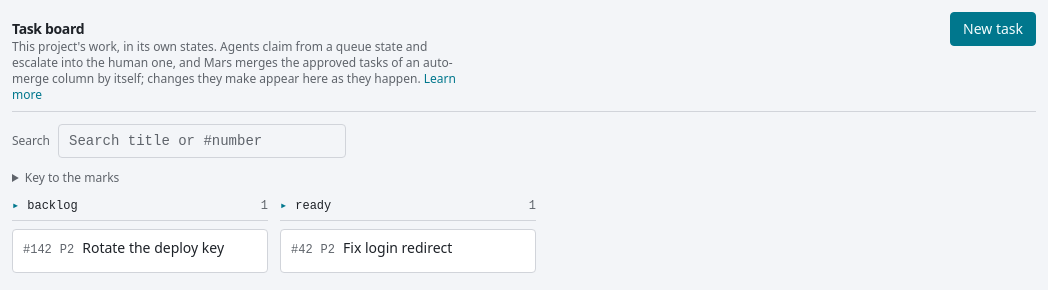
Test: TaskBoard search › hides the cards that do not match and keeps every column
The width and height of the screenshot is (1048, 290).
Type "login" into the search field named "Search tasks" at (202, 141), box 58,124 -> 346,158
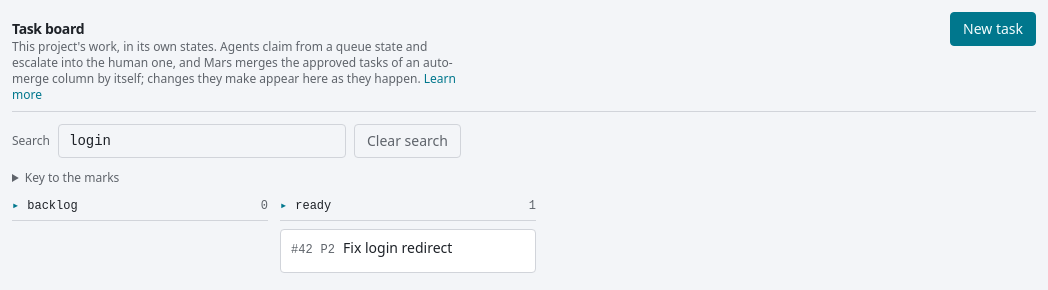
Check: the heading "Fix login redirect" is shown, box 343,238 -> 452,257
Check: the link "Rotate the deploy key" is gone
